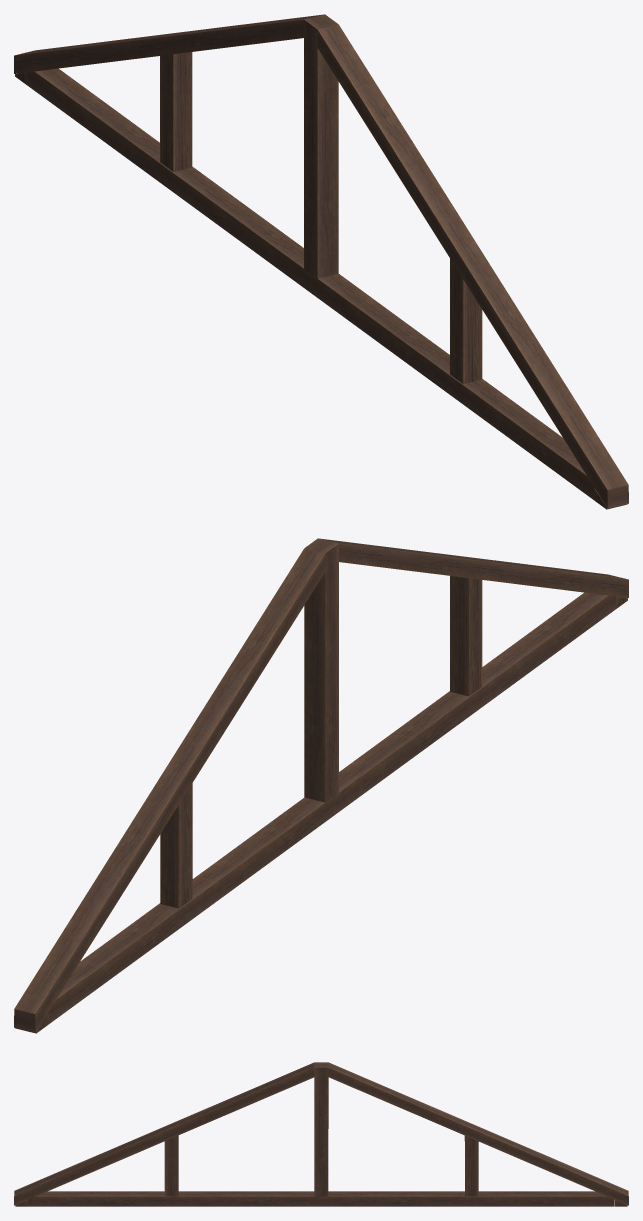
File: yane_frame_4t_1f_2.fbx
3 views of the same model, one above another, from view 1: azimuth 30°, elevation 25°; view 2: azimuth 150°, elevation 25°; view 3: azimuth 270°, elevation 25° (orthographic). The views are drawn at different scales.
Visible parts, largest first — view 1: yane_frame_4t_1f_2; view 2: yane_frame_4t_1f_2; view 3: yane_frame_4t_1f_2.
Boxes of the visible parts, x1,y1,x2,y2 form: yane_frame_4t_1f_2: [14, 14, 628, 509]; yane_frame_4t_1f_2: [14, 538, 628, 1033]; yane_frame_4t_1f_2: [14, 1062, 628, 1206].
Size of the model in its own units: 18.5 by 225 by 902.
